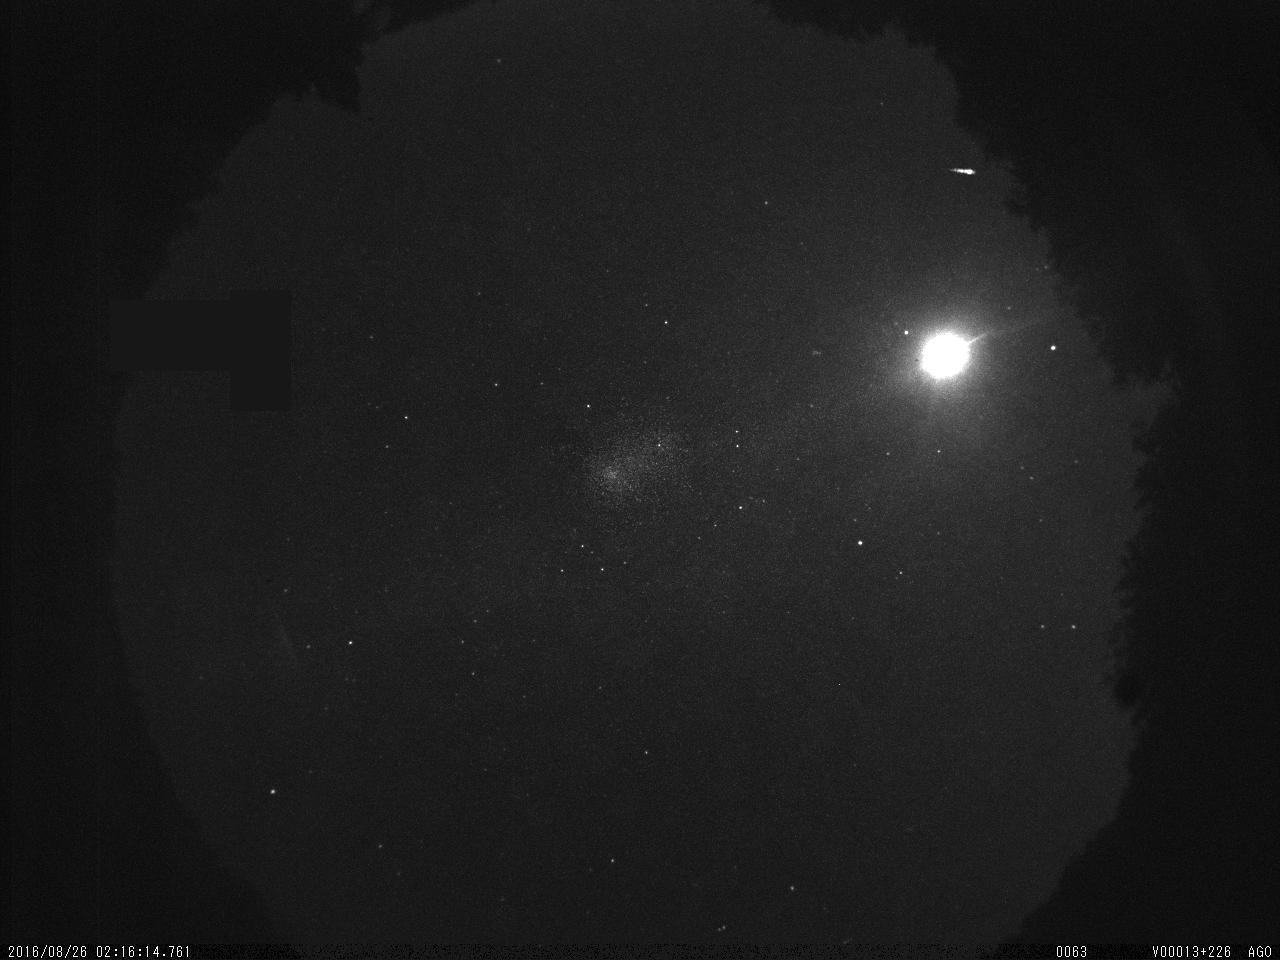Meteor: (937, 155, 984, 188)
